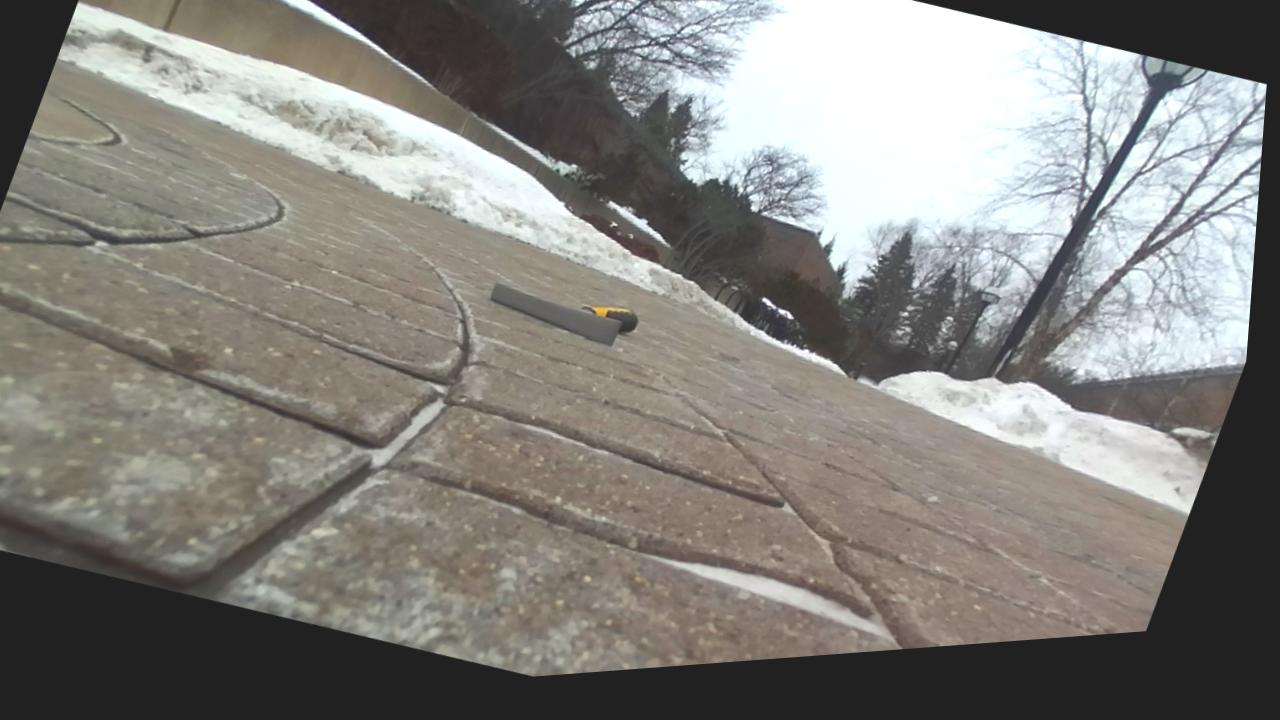pick: (490, 284, 636, 345)
